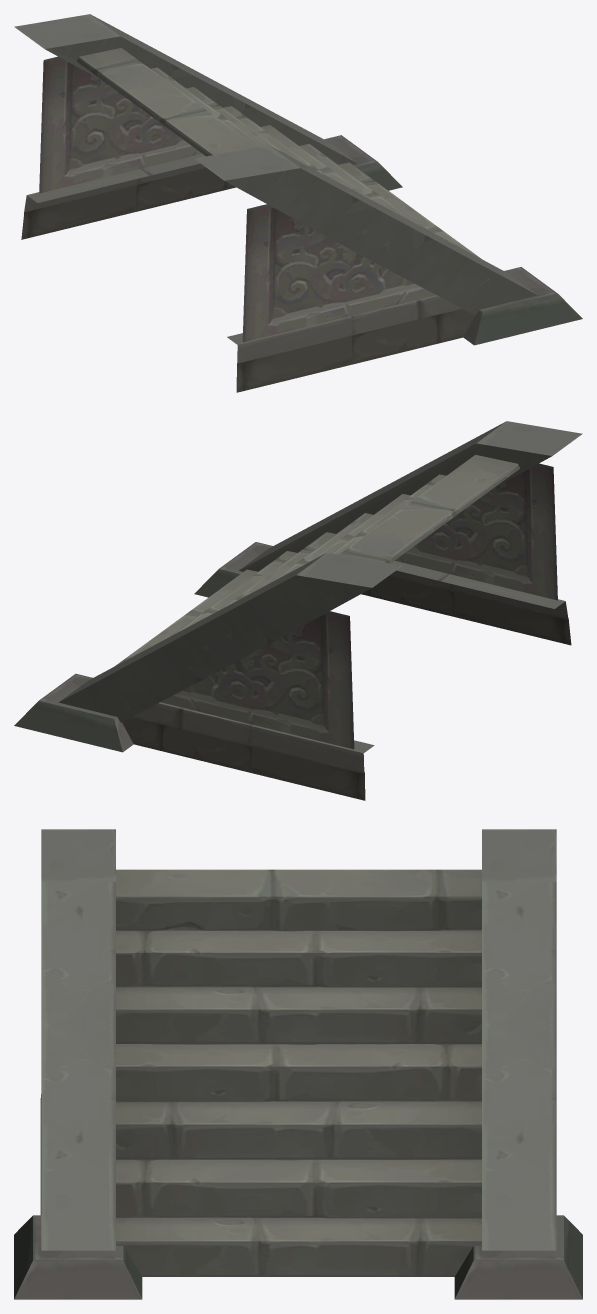
Rendered from louti_Forest_01.FBX.
The picture shows the model from 3 angles, top to bottom: view 1: azimuth 30°, elevation 25°; view 2: azimuth 150°, elevation 25°; view 3: azimuth 270°, elevation 25°; orthographic projection. The views are drawn at different scales.
Parts seen in each view (by area): view 1: louti_Forest_01; view 2: louti_Forest_01; view 3: louti_Forest_01.
Boxes of the visible parts, box(x1,y1,x2,y2) form: louti_Forest_01: box(14, 14, 582, 392); louti_Forest_01: box(14, 421, 582, 800); louti_Forest_01: box(14, 829, 582, 1299).
Size of the model in its own units: 69.3 by 42.72 by 80.3.
